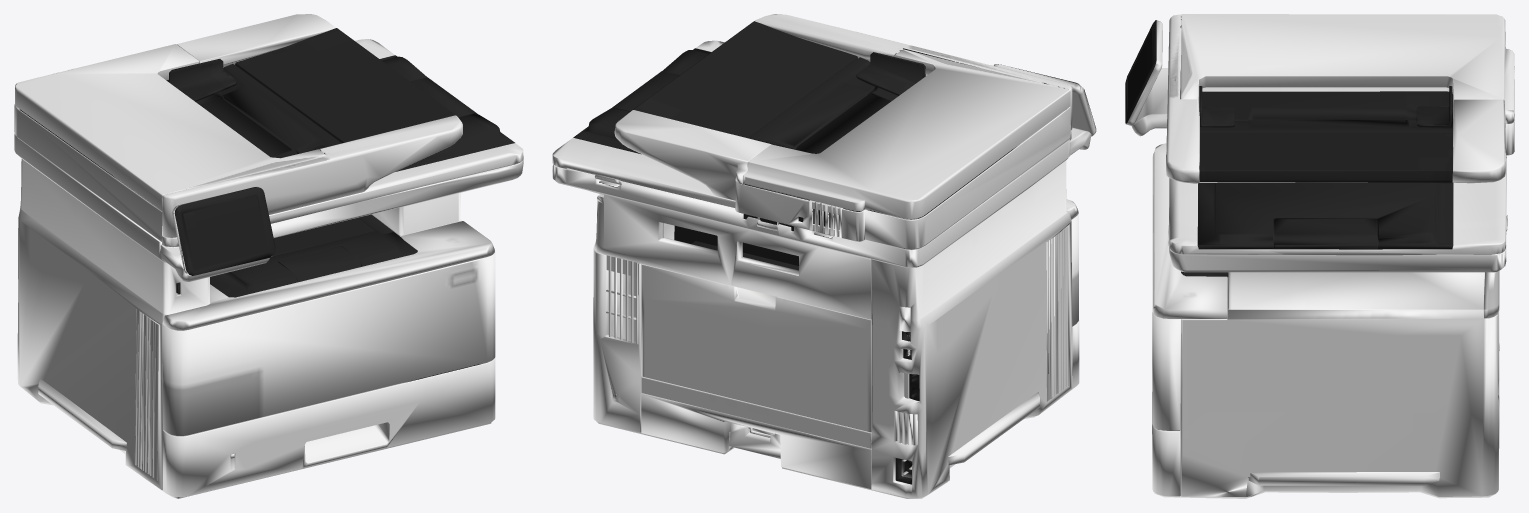
Rendered from dev-printer-laser_lod2.glb.
3 views of the same model, side by side, from view 1: azimuth 30°, elevation 25°; view 2: azimuth 150°, elevation 25°; view 3: azimuth 270°, elevation 25° (orthographic). The views are drawn at different scales.
Visible parts, largest first — view 1: body; view 2: body; view 3: body.
Boxes of the visible parts, <box> form: body: <box>14,14,523,498</box>; body: <box>552,14,1096,498</box>; body: <box>1125,14,1514,498</box>.
Bounding box in the file's own units: 0.4428 × 0.3383 × 0.3779.
Materials: 1 (1 with a texture image).
